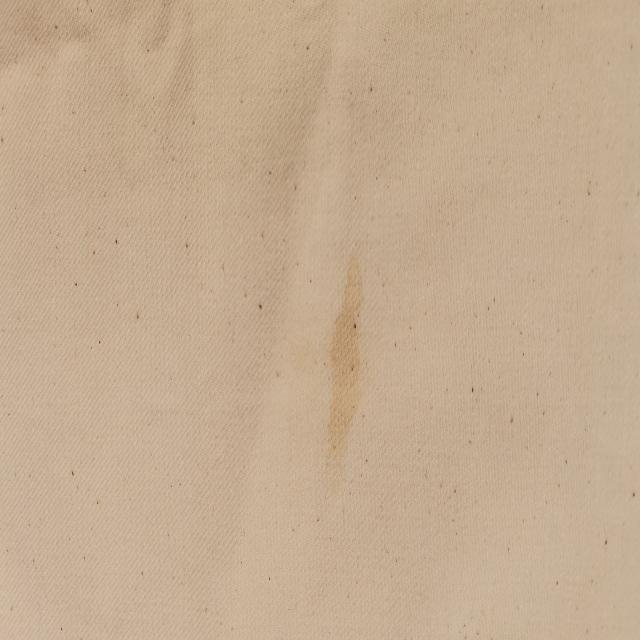taaaches: (304, 229, 382, 494)
